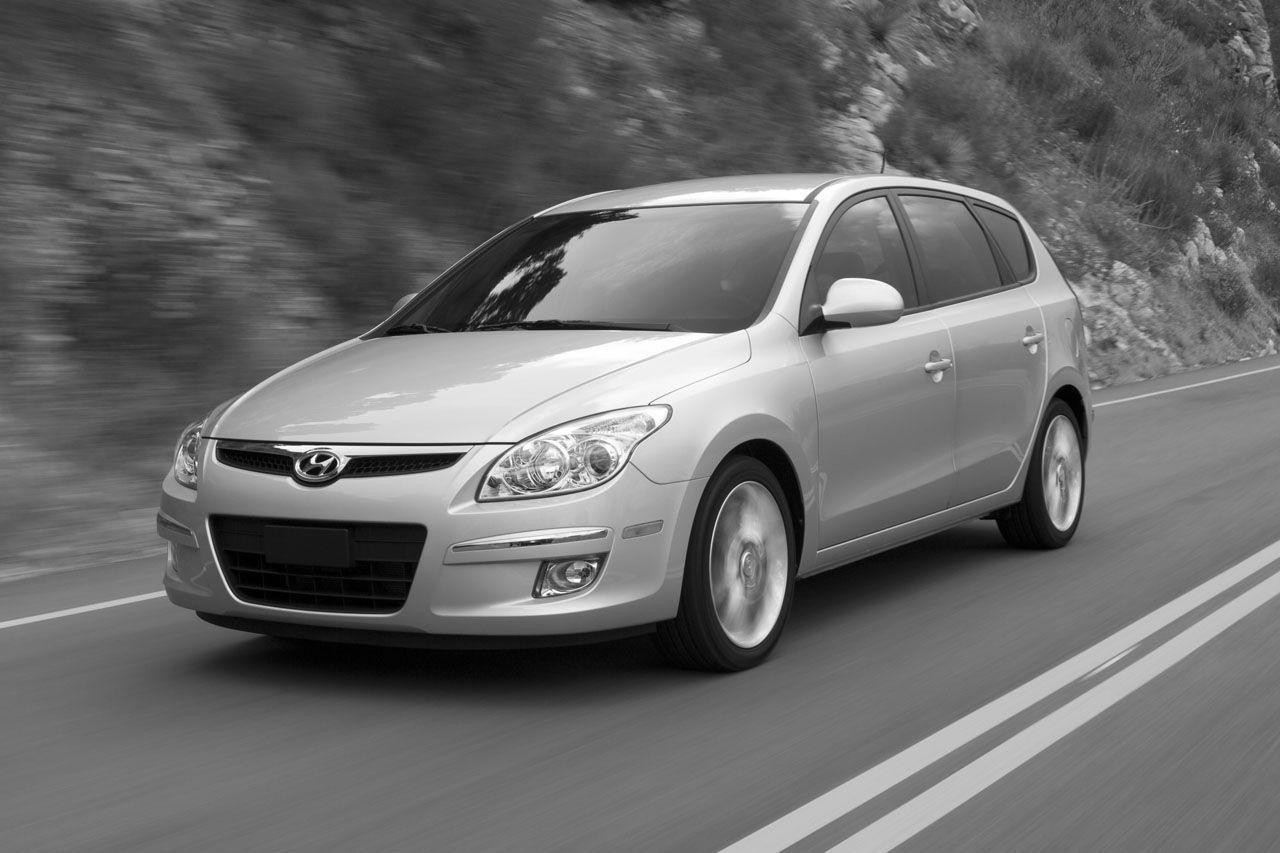car: (152, 167, 1095, 681)
